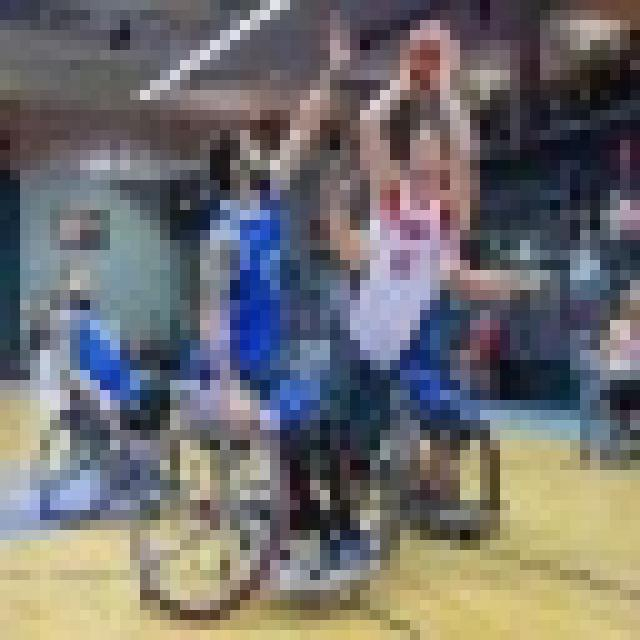wheelchairs: (130, 337, 409, 614), (280, 318, 504, 537), (41, 323, 223, 513), (565, 341, 640, 477)
